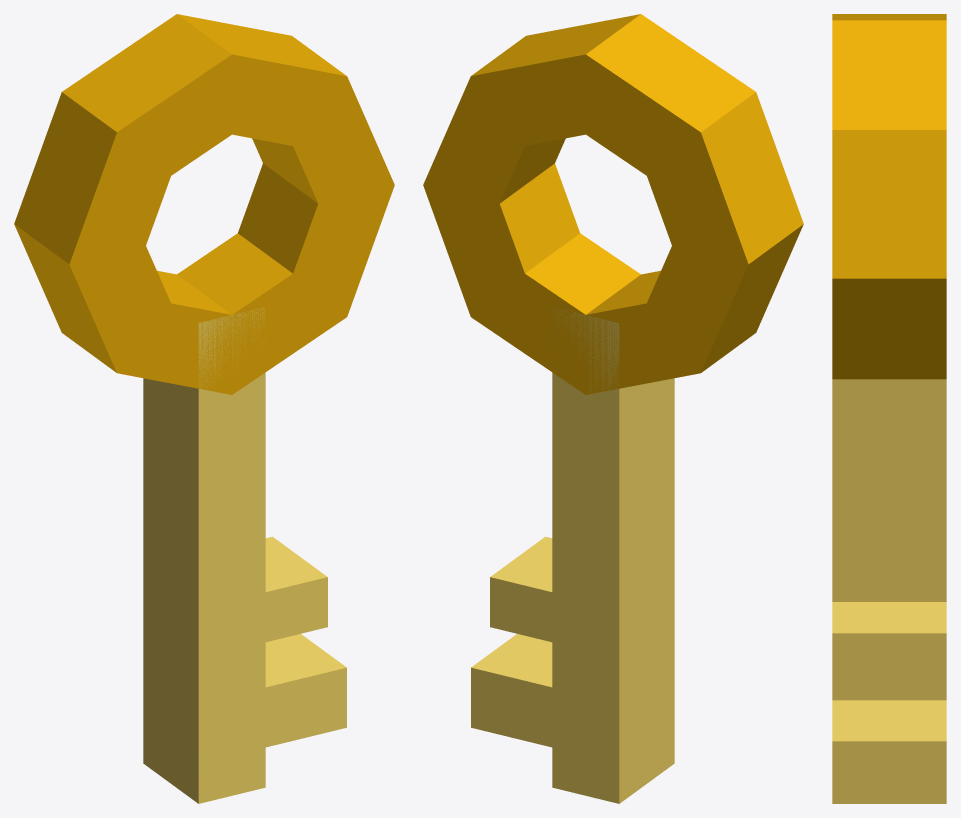
The model's file is chave.glb.
3 views of the same model, side by side, from view 1: azimuth 30°, elevation 25°; view 2: azimuth 150°, elevation 25°; view 3: azimuth 270°, elevation 25° (orthographic). The views are drawn at different scales.
Visible parts, largest first — view 1: chave; view 2: chave; view 3: chave.
Boxes of the visible parts, x1,y1,x2,y2 form: chave: (14, 14, 394, 803); chave: (423, 14, 803, 803); chave: (832, 14, 946, 803).
Bounding box in the file's own units: 0.34 × 0.74 × 0.1.
